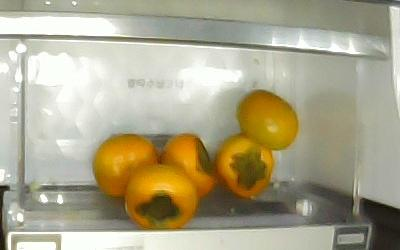persimmon: (122, 161, 199, 228), (90, 131, 160, 198), (234, 88, 299, 150), (214, 131, 274, 197), (158, 131, 216, 197)
